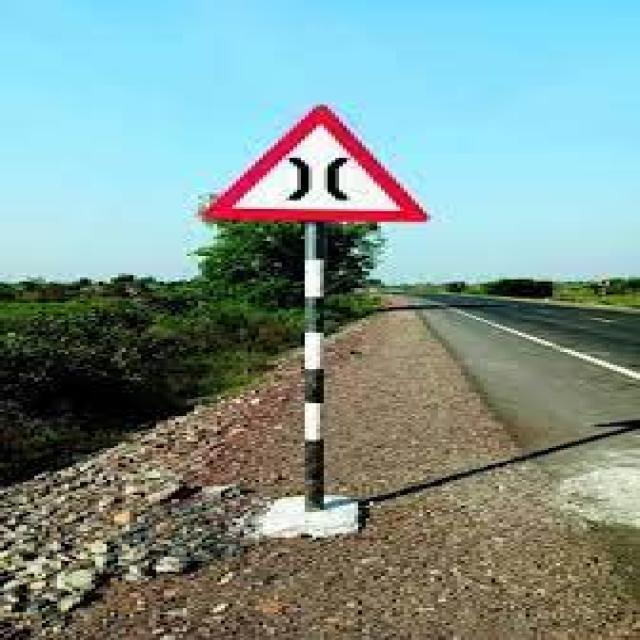narrow bridge ahead: (201, 104, 429, 215)
